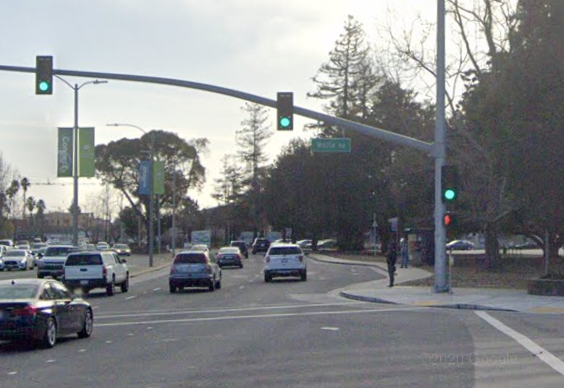green_light: (276, 92, 293, 129), (36, 55, 52, 92), (441, 166, 456, 203)
